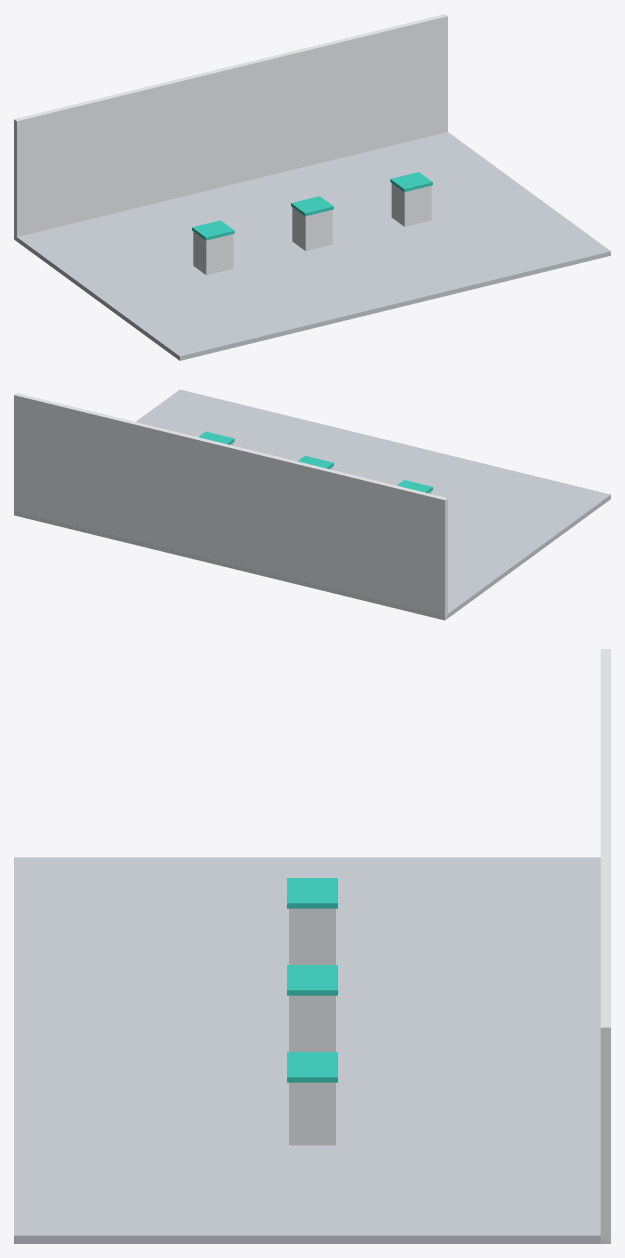
3 renders of one model, top to bottom at view 1: azimuth 30°, elevation 25°; view 2: azimuth 150°, elevation 25°; view 3: azimuth 270°, elevation 25°, orthographic. The views are drawn at different scales.
Visible parts, largest first — view 1: Exhibition Booth Concept; view 2: Exhibition Booth Concept; view 3: Exhibition Booth Concept.
Boxes of the visible parts, bbox=[...] form: Exhibition Booth Concept: bbox=[14, 14, 610, 360]; Exhibition Booth Concept: bbox=[14, 389, 610, 620]; Exhibition Booth Concept: bbox=[14, 649, 610, 1243].
Size of the model in its own units: 12 by 3.2 by 8.
